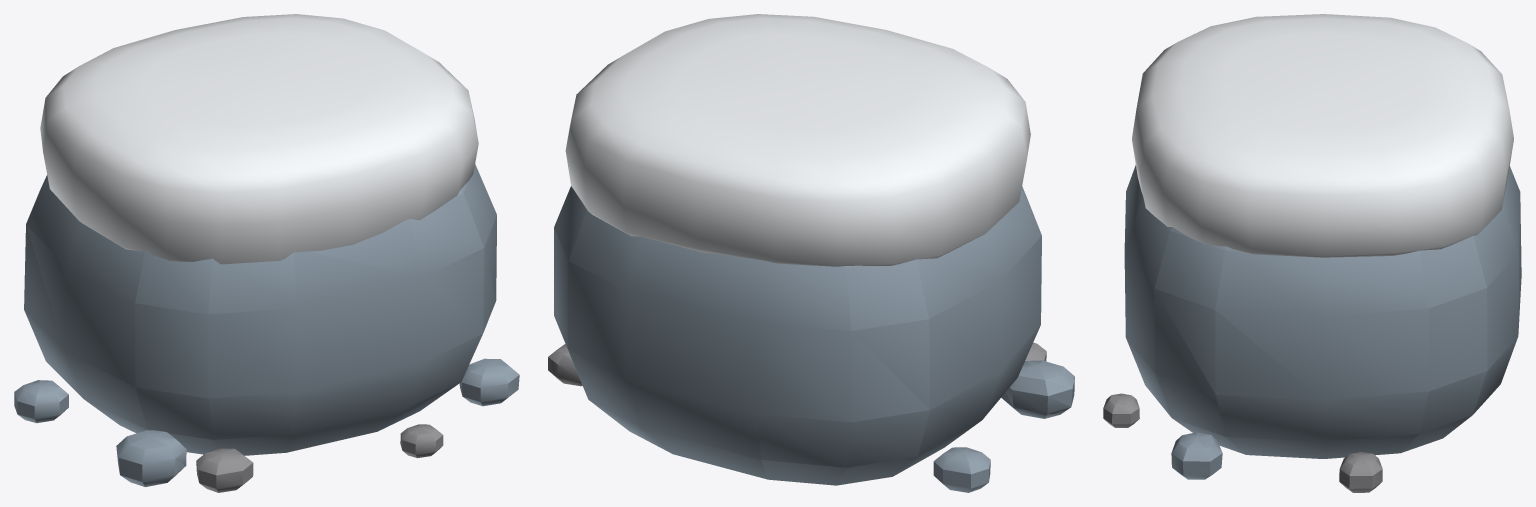
Rendered from SnowyBoulder.glb.
3 renders of one model, left to right at view 1: azimuth 30°, elevation 25°; view 2: azimuth 150°, elevation 25°; view 3: azimuth 270°, elevation 25°, orthographic. The views are drawn at different scales.
Visible parts, largest first — view 1: SnowyBoulder; view 2: SnowyBoulder; view 3: SnowyBoulder.
Boxes of the visible parts, box(x1,y1,x2,y2) form: SnowyBoulder: box(14, 14, 519, 492); SnowyBoulder: box(548, 14, 1074, 492); SnowyBoulder: box(1103, 14, 1521, 492).
Size of the model in its own units: 6.5 by 4.65 by 5.59.
1 material, 1 textured.
